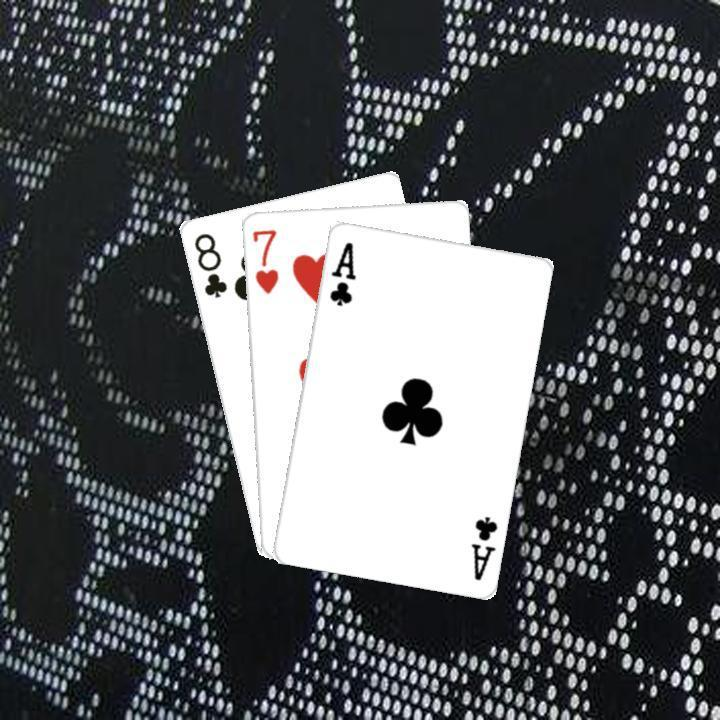7: (248, 224, 280, 296)
8: (189, 228, 229, 300)
A: (466, 511, 499, 582), (324, 237, 357, 307)
